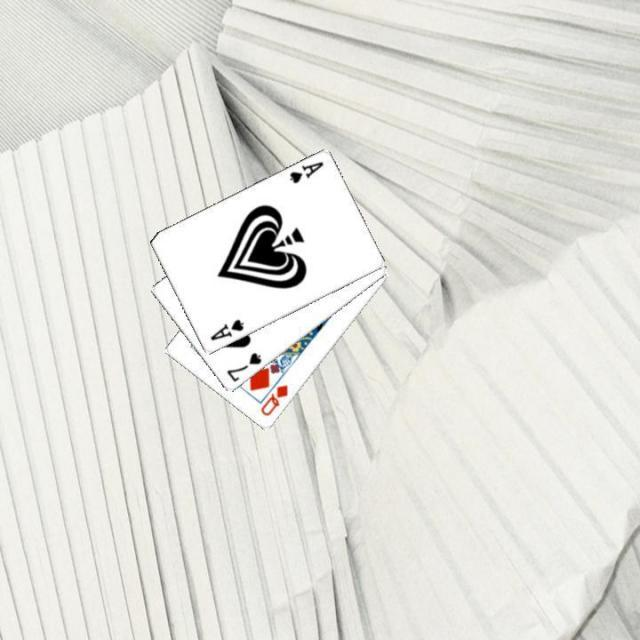7S: (223, 348, 263, 384)
AS: (286, 158, 326, 186), (207, 316, 246, 344)
QD: (257, 381, 290, 417)
